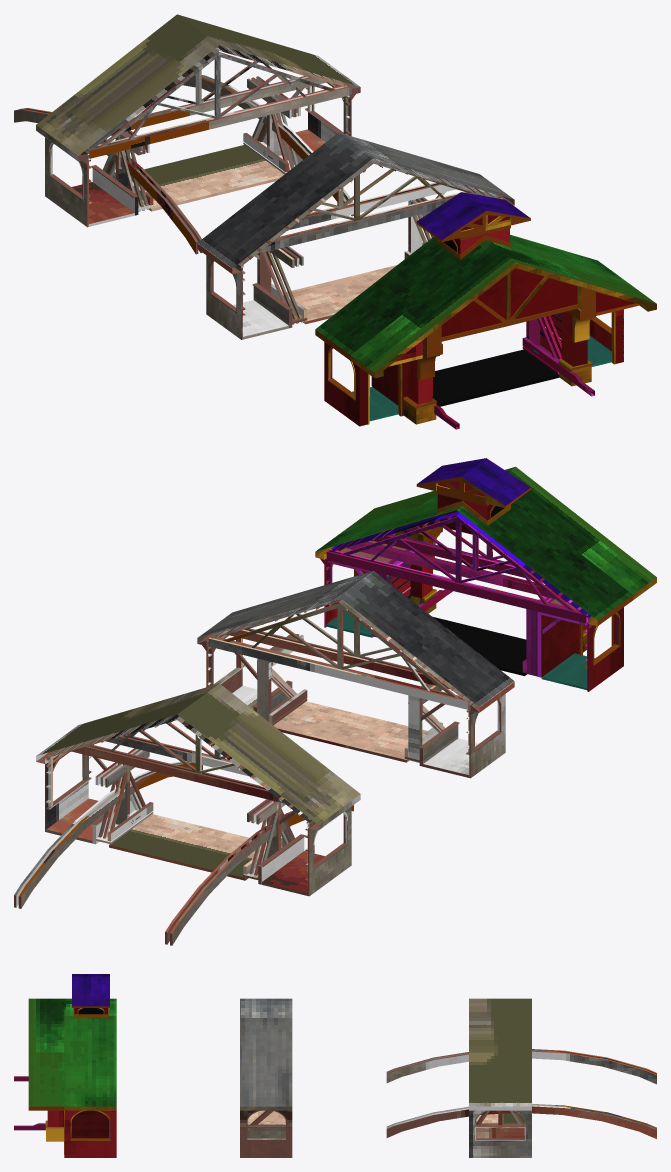
Rendered from Covered_bridge_01.glb.
3 views of the same model, one above another, from view 1: azimuth 30°, elevation 25°; view 2: azimuth 150°, elevation 25°; view 3: azimuth 270°, elevation 25° (orthographic). The views are drawn at different scales.
Visible parts, largest first — view 1: Covered_bridge_01; view 2: Covered_bridge_01; view 3: Covered_bridge_01.
Part boxes in pixels (bbox=[...]): Covered_bridge_01: bbox=[14, 14, 656, 429]; Covered_bridge_01: bbox=[14, 458, 656, 945]; Covered_bridge_01: bbox=[14, 974, 656, 1157].
Bounding box in the file's own units: 20.35 × 12.44 × 53.97.
2 materials, 2 textured.
